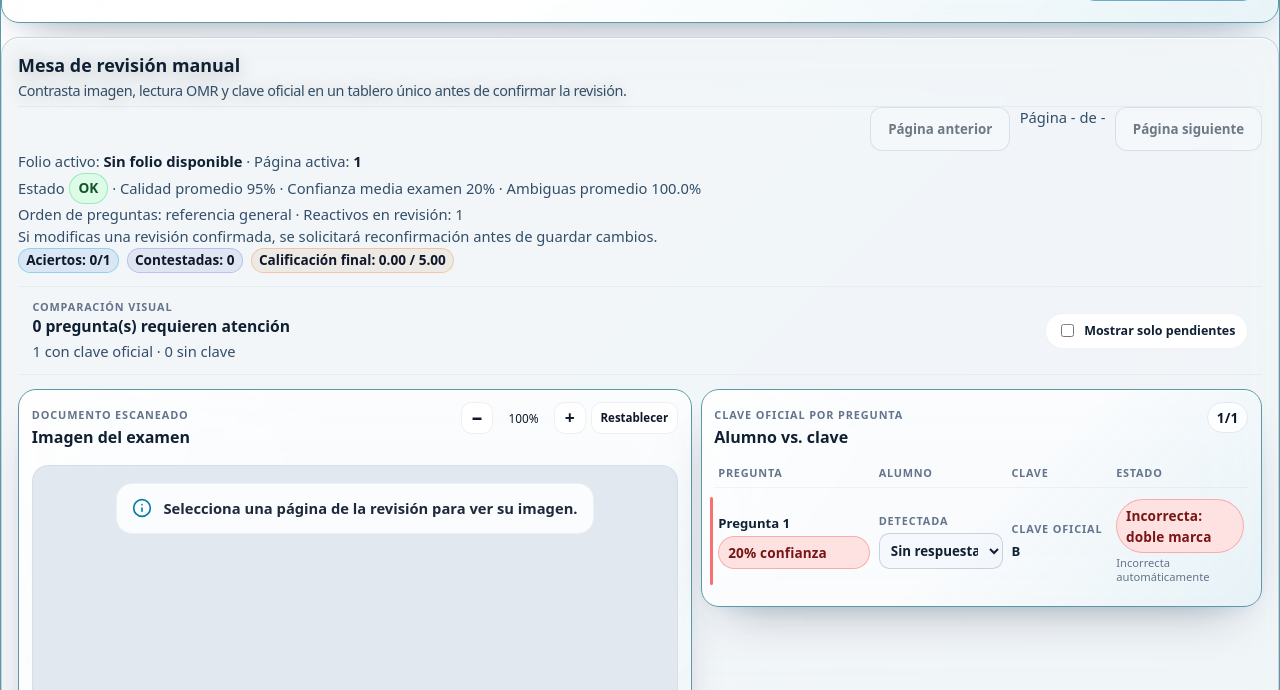
Test: escaneo refactor comportamiento › muestra una marca múltiple como incorrecta automática, no como página pendiente
(page scrolled)
Check: the text "Incorrecta: doble marca" is shown, box [1116,499,1244,553]
Check: the text "Incorrecta automáticamente" is shown, box [1116,555,1210,584]
Click the checkbox labelled "Mostrar solo pendientes": click(1067, 331) [1061,324,1074,337]
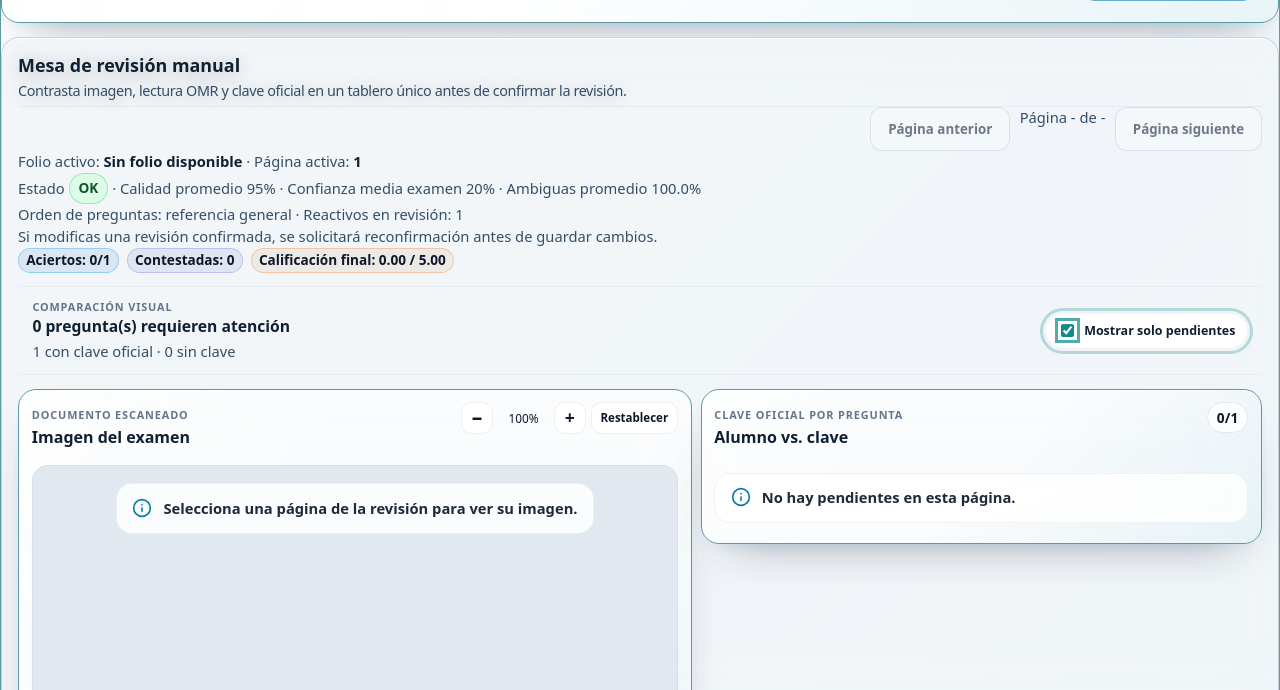
Check: the text "No hay pendientes en esta página." is shown, box [762,487,1016,507]
